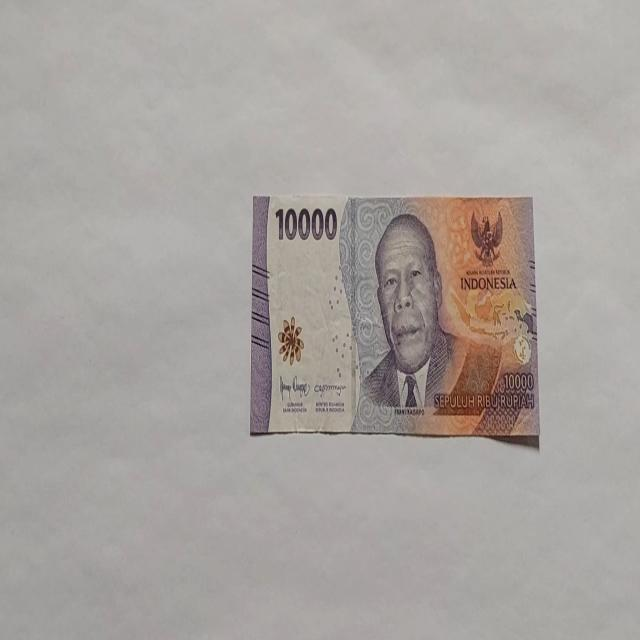sepuluh ribu rupiah: (250, 191, 540, 443)
